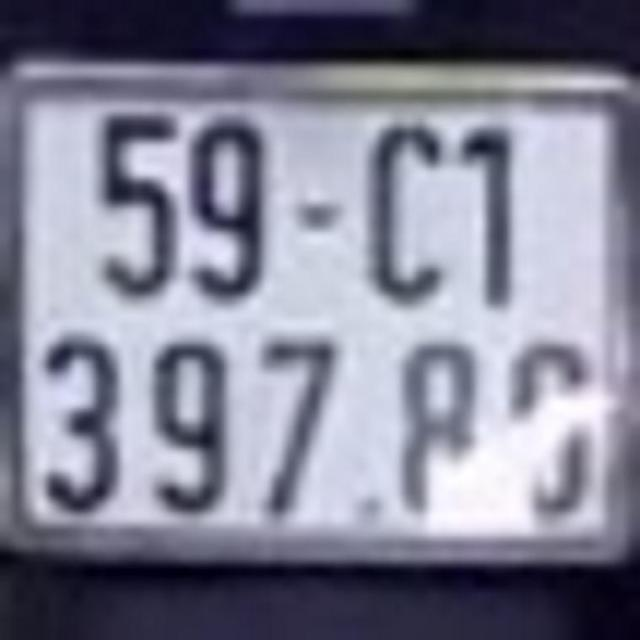0: (515, 329, 591, 520)
1: (464, 124, 519, 310)
3: (37, 335, 123, 516)
5: (95, 109, 172, 288)
7: (256, 328, 342, 515)
8: (398, 333, 478, 524)
9: (188, 114, 264, 296), (157, 340, 230, 511)
C: (358, 116, 448, 308)
